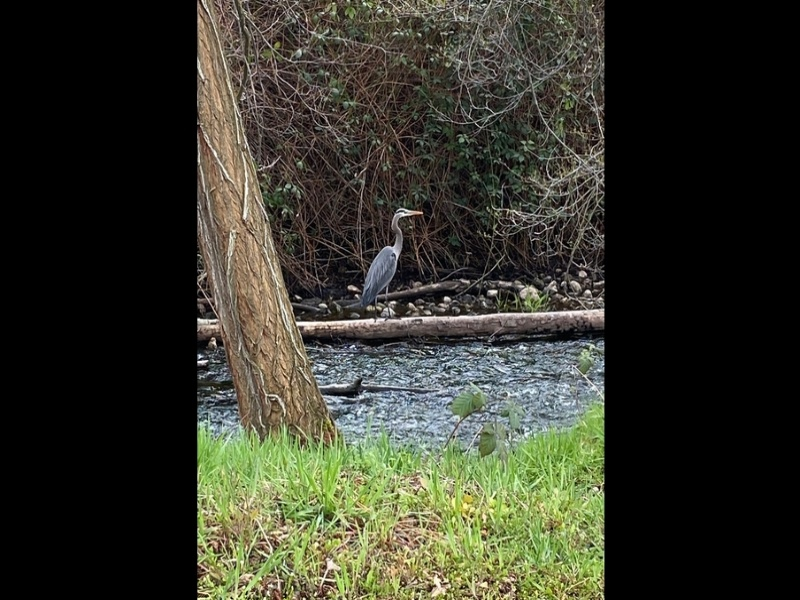heron: (358, 204, 427, 324)
